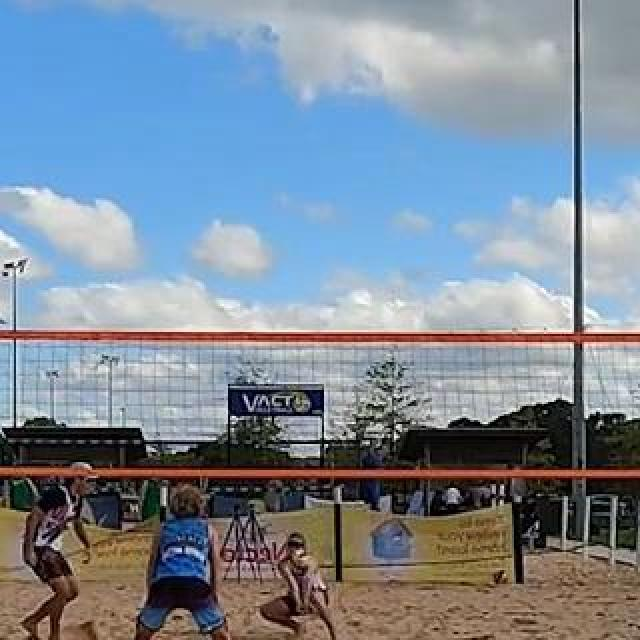volleyball: (289, 549, 313, 573)
